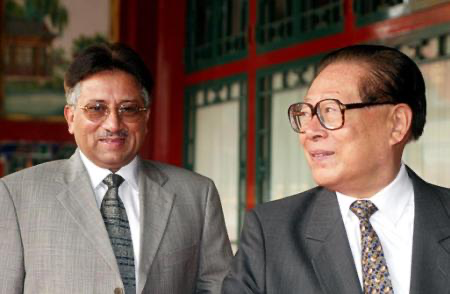Face: (290, 66, 398, 191), (70, 79, 150, 164)
